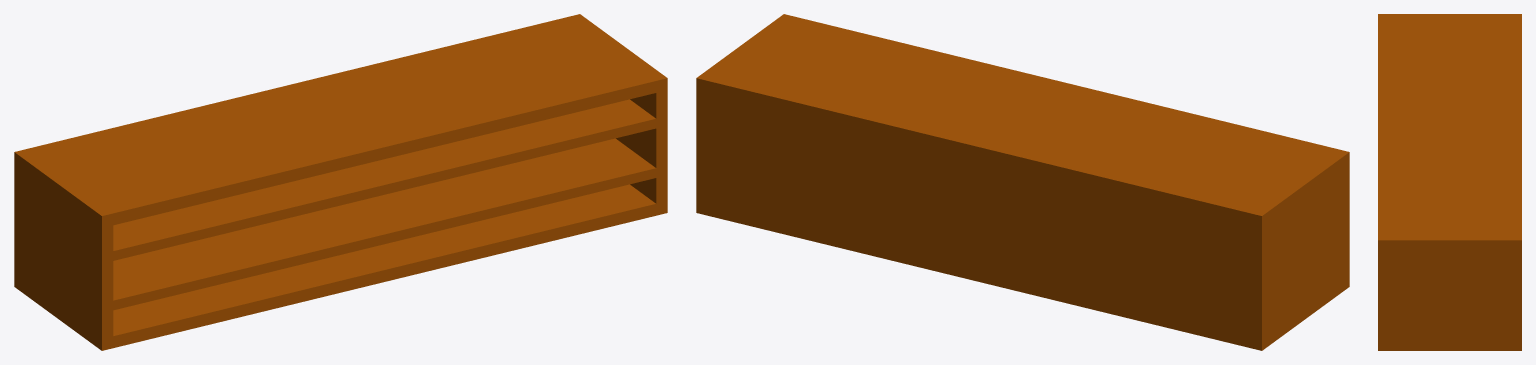
Rendered from TVCabinet.fbx.
3 views of the same model, side by side, from view 1: azimuth 30°, elevation 25°; view 2: azimuth 150°, elevation 25°; view 3: azimuth 270°, elevation 25° (orthographic). The views are drawn at different scales.
Visible parts, largest first — view 1: Cube.001; view 2: Cube.001; view 3: Cube.001.
Part boxes in pixels (x1=…): Cube.001: x1=14, y1=14, x2=667, y2=350; Cube.001: x1=696, y1=14, x2=1349, y2=350; Cube.001: x1=1378, y1=14, x2=1521, y2=350.
Bounding box in the file's own units: 566 × 152 × 129.
